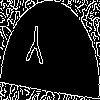Y: (25, 24, 45, 73)
